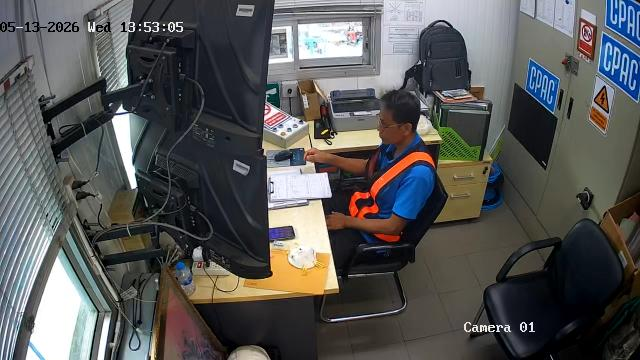Head: (378, 90, 419, 144)
People: (305, 91, 435, 268)
Phone: (269, 226, 295, 241)
